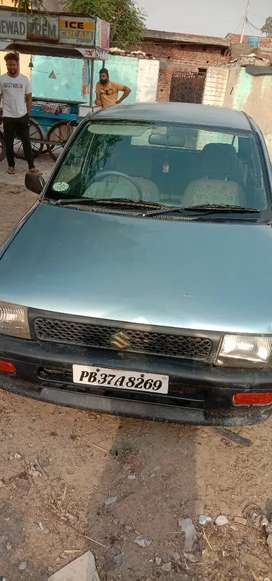PB37A8269: (72, 363, 168, 396)
